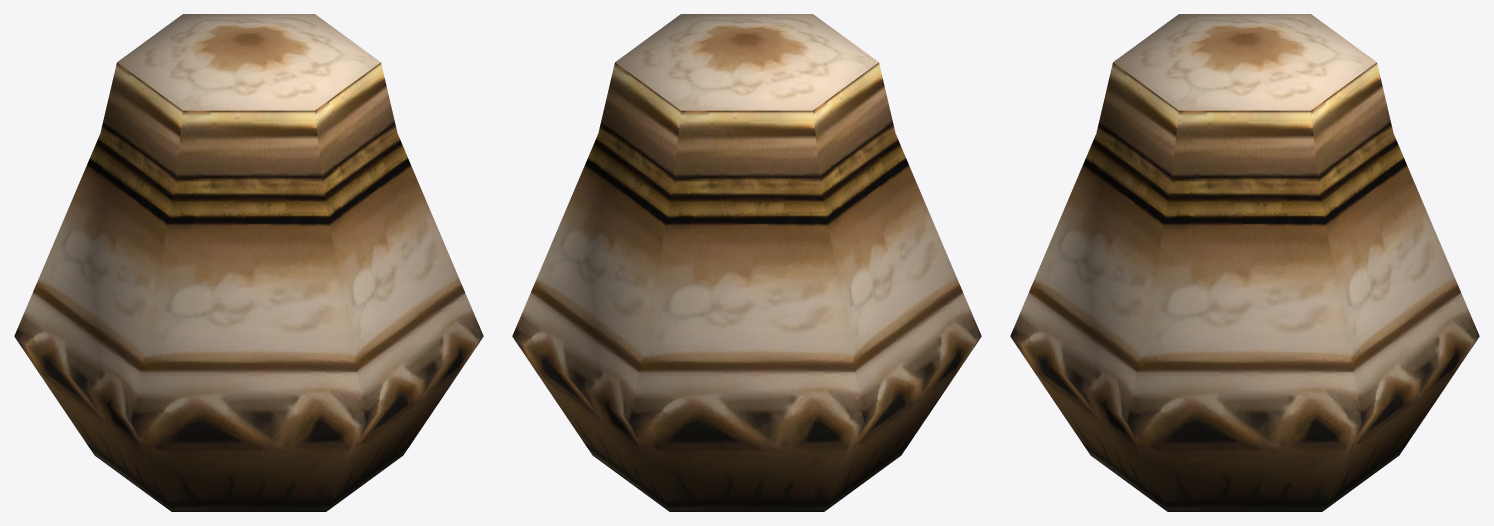
File: jar02.obj
3 views of the same model, side by side, from view 1: azimuth 30°, elevation 25°; view 2: azimuth 150°, elevation 25°; view 3: azimuth 270°, elevation 25° (orthographic).
Parts seen in each view (by area): view 1: jar02; view 2: jar02; view 3: jar02.
Part boxes in pixels (<box>): jar02: <box>14,14,483,511</box>; jar02: <box>512,14,981,511</box>; jar02: <box>1010,14,1479,511</box>.
Bounding box in the file's own units: 0.4398 × 0.5002 × 0.5079.
1 material, 1 textured.
